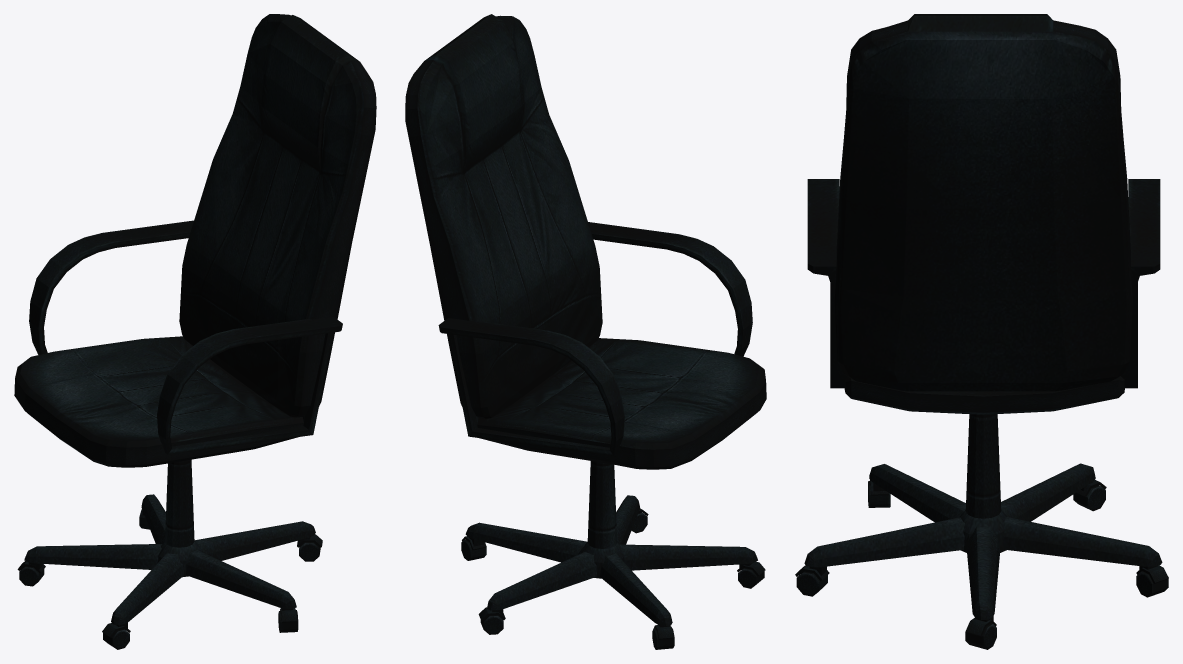
The model's file is office_desk_chair.glb.
3 renders of one model, left to right at view 1: azimuth 30°, elevation 25°; view 2: azimuth 150°, elevation 25°; view 3: azimuth 270°, elevation 25°, orthographic. The views are drawn at different scales.
Visible parts, largest first — view 1: world; view 2: world; view 3: world.
Part boxes in pixels (x1,y1,x2,y2): world: (14, 14, 376, 649); world: (405, 14, 766, 649); world: (795, 14, 1168, 649).
Bounding box in the file's own units: 2.54 × 4.57 × 2.44.
Materials: 1 (1 with a texture image).
